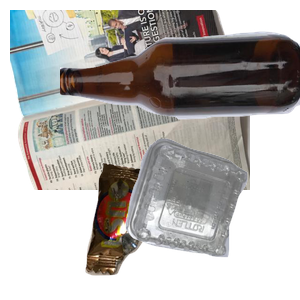glass: (60, 29, 300, 141)
paper: (10, 10, 250, 190)
plastic: (123, 136, 300, 300)
trash: (83, 160, 233, 300)
